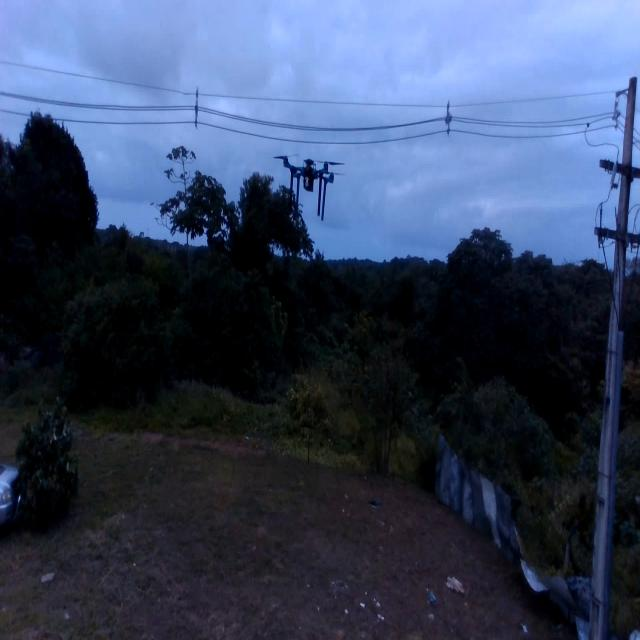-uav-: (270, 141, 346, 231)
